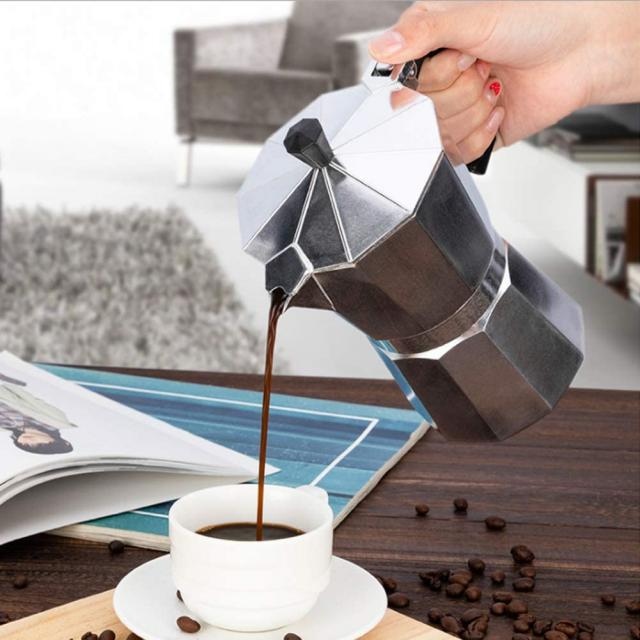cup: (149, 478, 345, 609)
jug: (227, 34, 603, 441)
